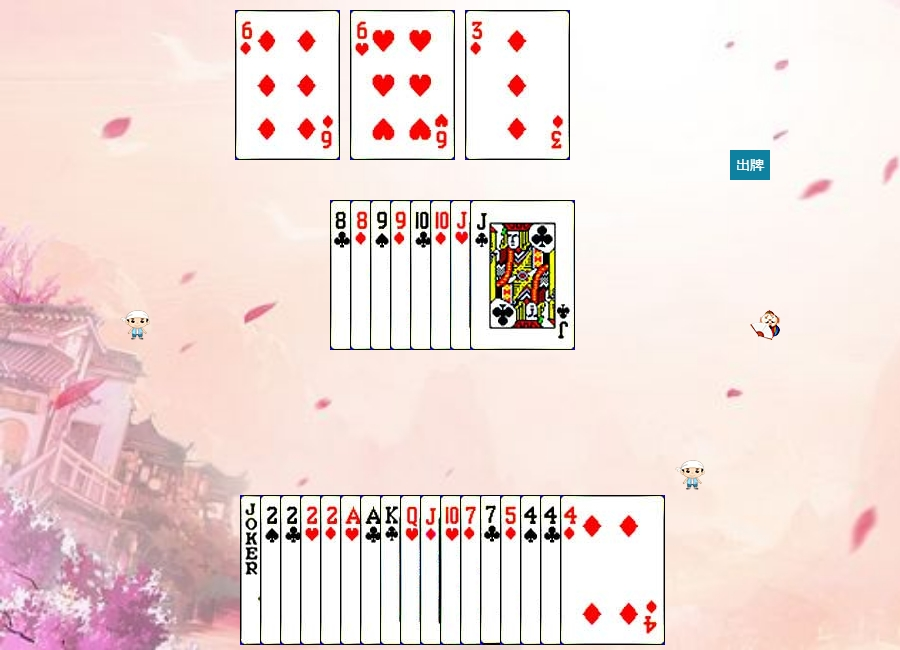10~1: (430, 200, 535, 350)
10~2: (410, 200, 515, 350)
10~3: (440, 495, 545, 645)
11~1: (420, 495, 525, 645)
11~2: (470, 200, 576, 349)
11~3: (450, 200, 555, 350)
12~3: (400, 495, 505, 645)
13~2: (380, 495, 485, 645)
14~2: (360, 495, 465, 645)
14~3: (340, 495, 445, 645)
15~1: (320, 495, 425, 645)
15~2: (280, 495, 385, 645)
15~3: (300, 495, 405, 645)
15~4: (260, 495, 365, 645)
17~3: (240, 495, 345, 645)
3~1: (465, 10, 570, 160)
4~1: (560, 495, 665, 645)
4~2: (540, 495, 645, 645)
4~4: (520, 495, 625, 645)
5~1: (500, 495, 605, 645)
6~1: (235, 10, 340, 160)
6~3: (350, 10, 455, 160)
7~1: (460, 495, 565, 645)
7~2: (480, 495, 585, 645)
8~1: (350, 200, 455, 350)
8~2: (330, 200, 435, 350)
9~1: (390, 200, 495, 350)
9~4: (370, 200, 475, 350)
